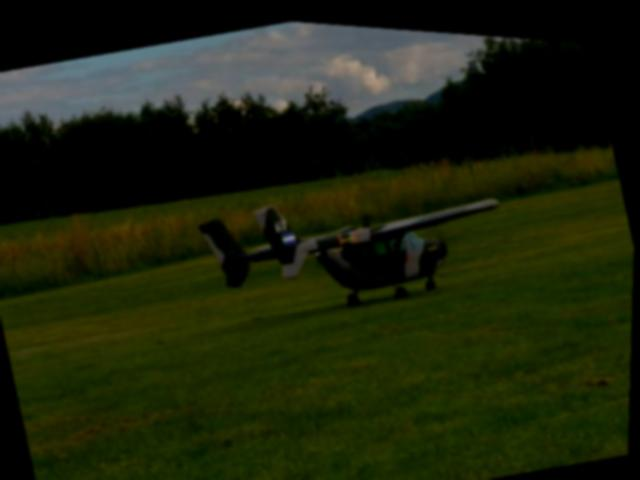uav: (192, 139, 523, 346)
